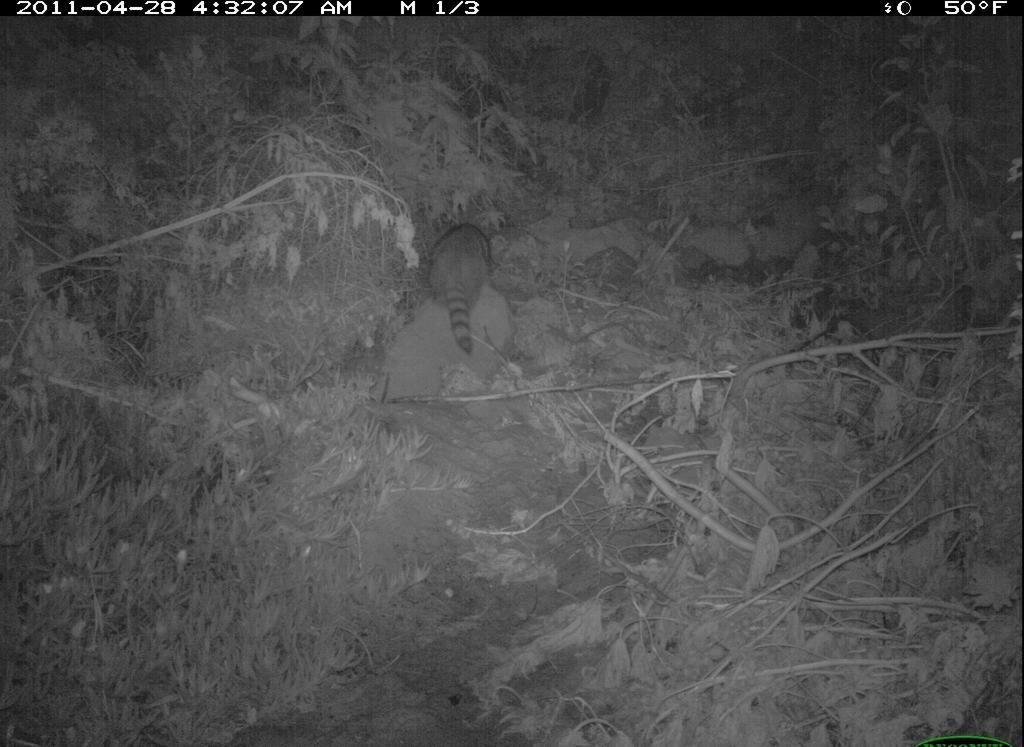raccoon: (422, 201, 498, 361)
